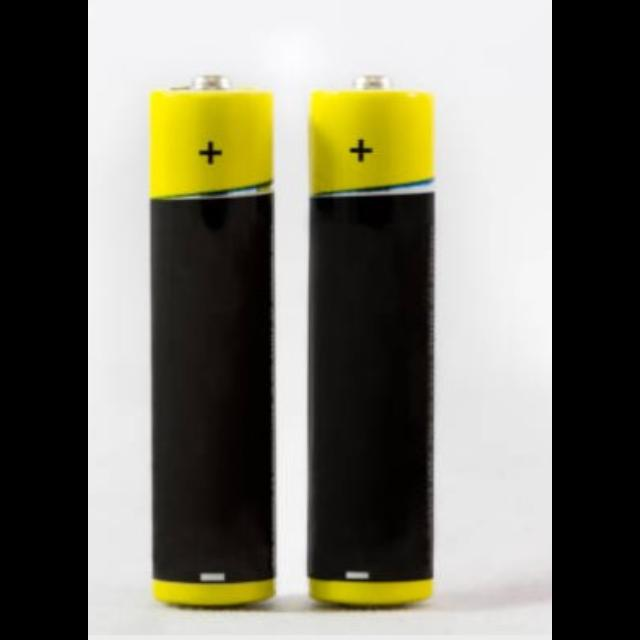Battery: (306, 71, 436, 612), (150, 73, 278, 611)
